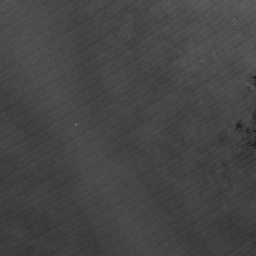Target: (73, 121, 79, 127)
